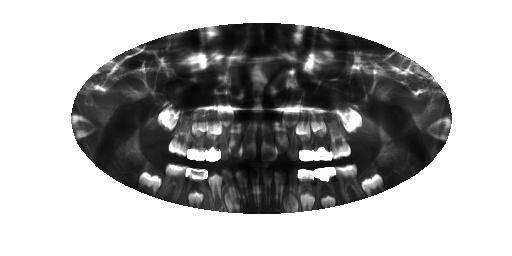Fillings: (314, 165, 338, 200), (185, 127, 205, 160), (312, 127, 331, 161), (205, 120, 220, 162), (295, 133, 312, 163), (299, 168, 315, 199)
